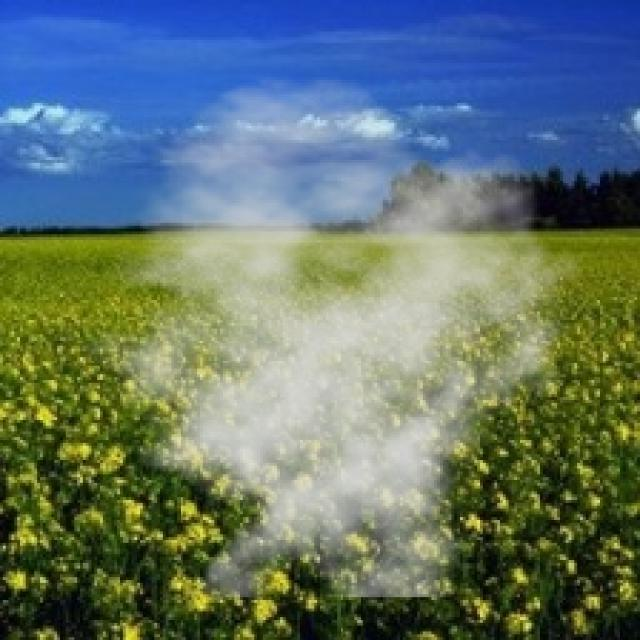smoke: (57, 74, 586, 597)
